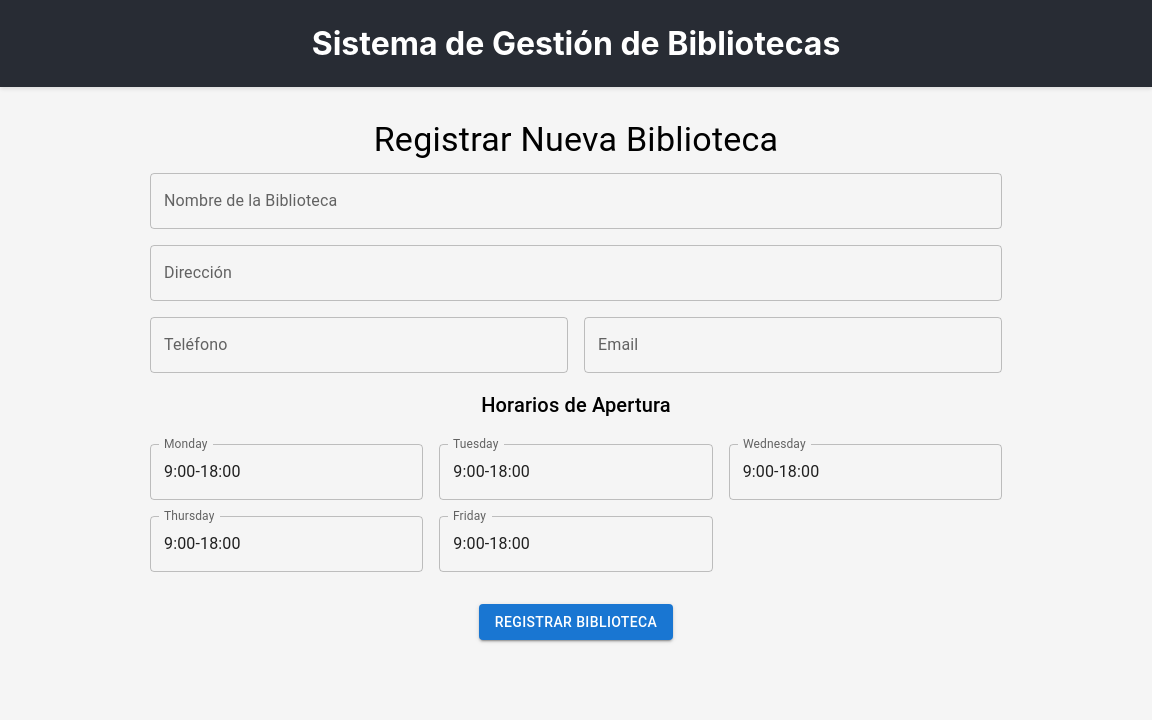
Test: Library Registration Flow › should handle duplicate library name
Llenar y enviar el formulario
In the field named "name": (576, 201) [150,173,1002,229], type "Biblioteca Duplicada"
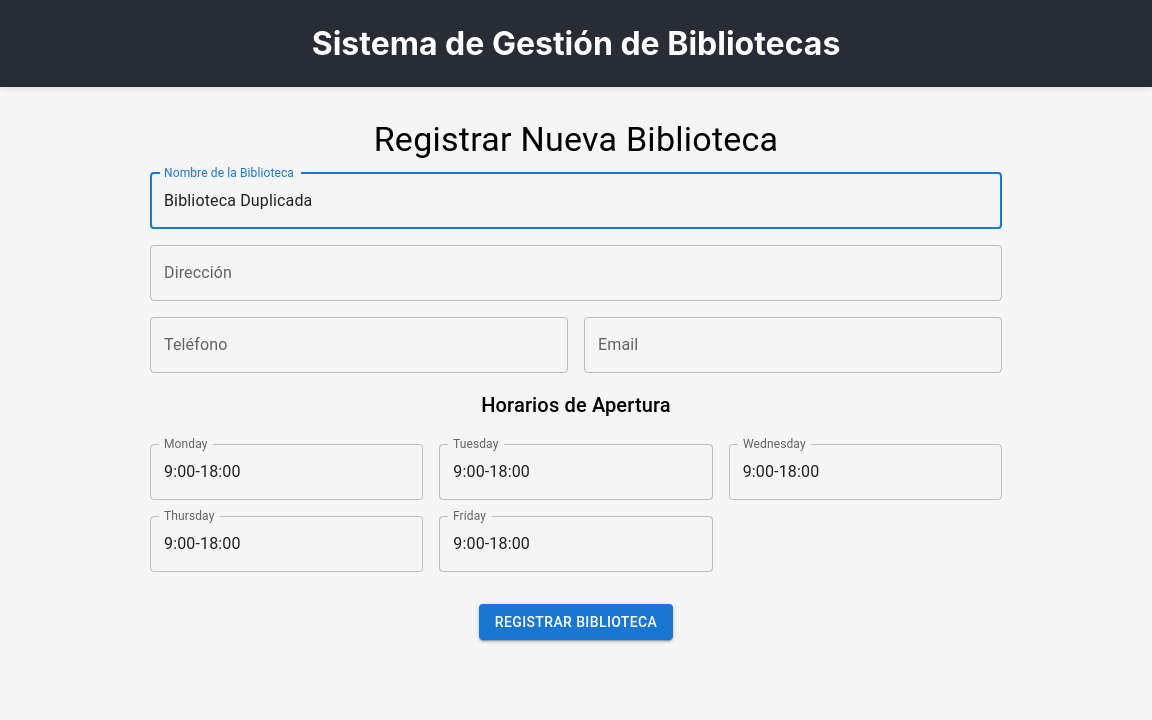
In the field named "address": (576, 273) [150,245,1002,301], type "Dirección Test"
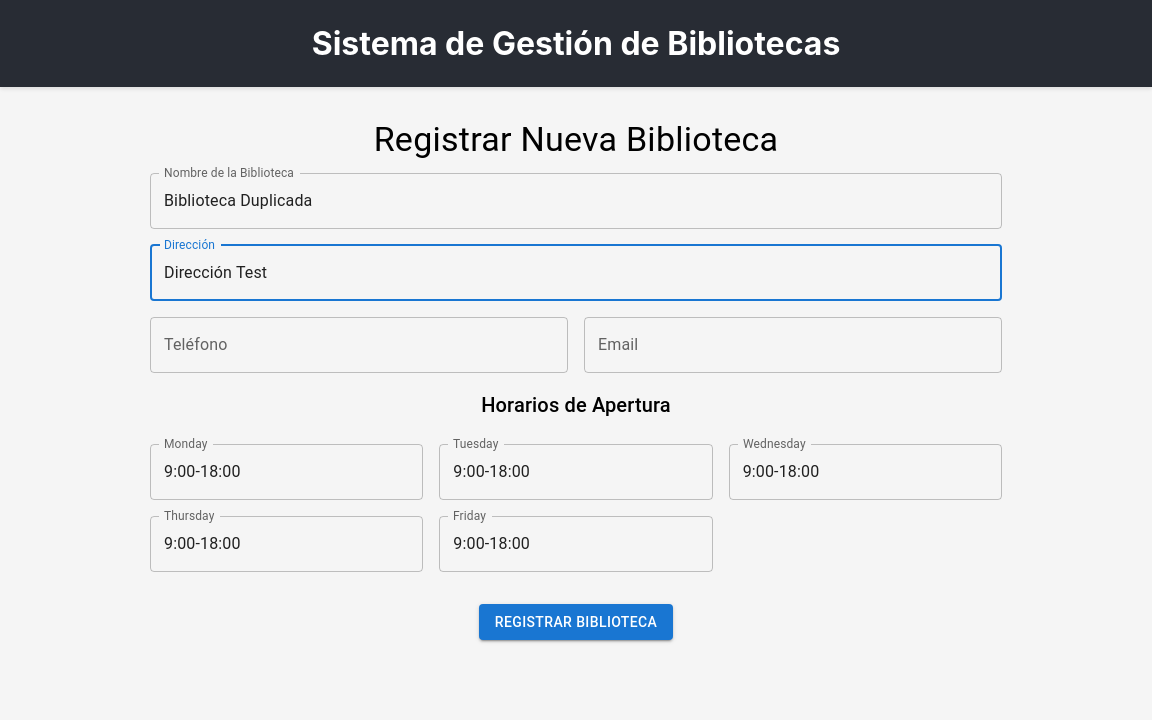
In the field named "phone": (359, 345) [150,317,568,373], type "+1234567890"
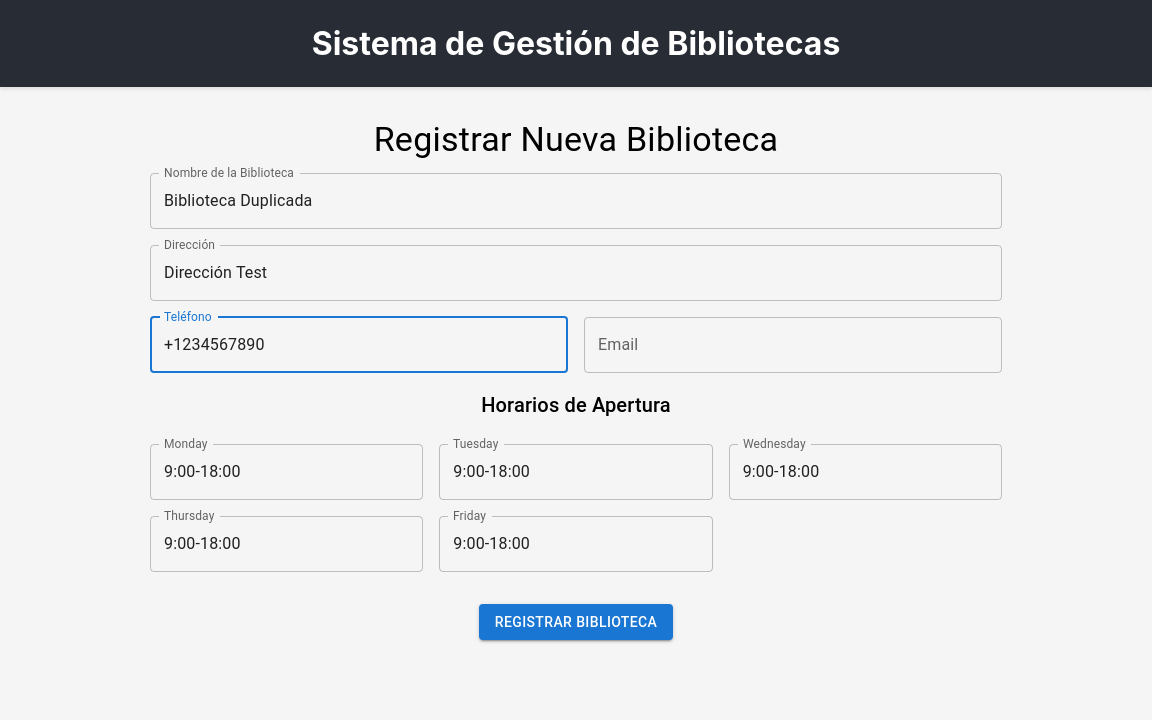
In the field named "email": (793, 345) [584,317,1002,373], type "test@biblioteca.com"
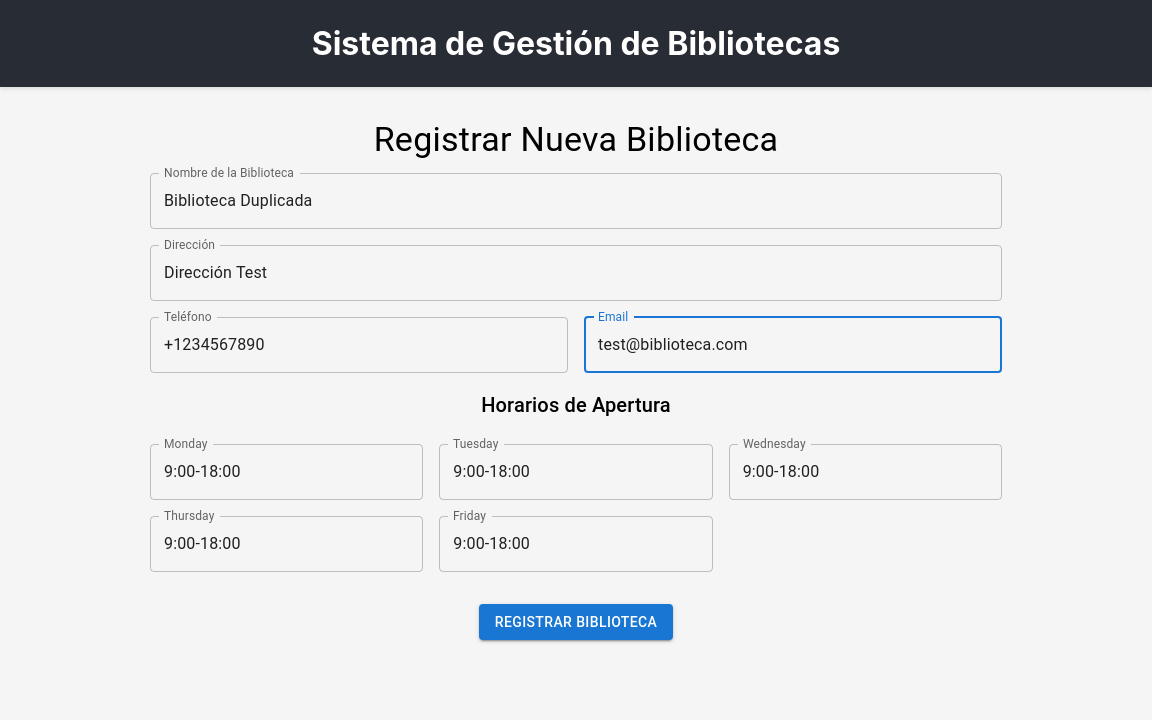
Click the submit button: click(577, 623) [479,604,674,641]
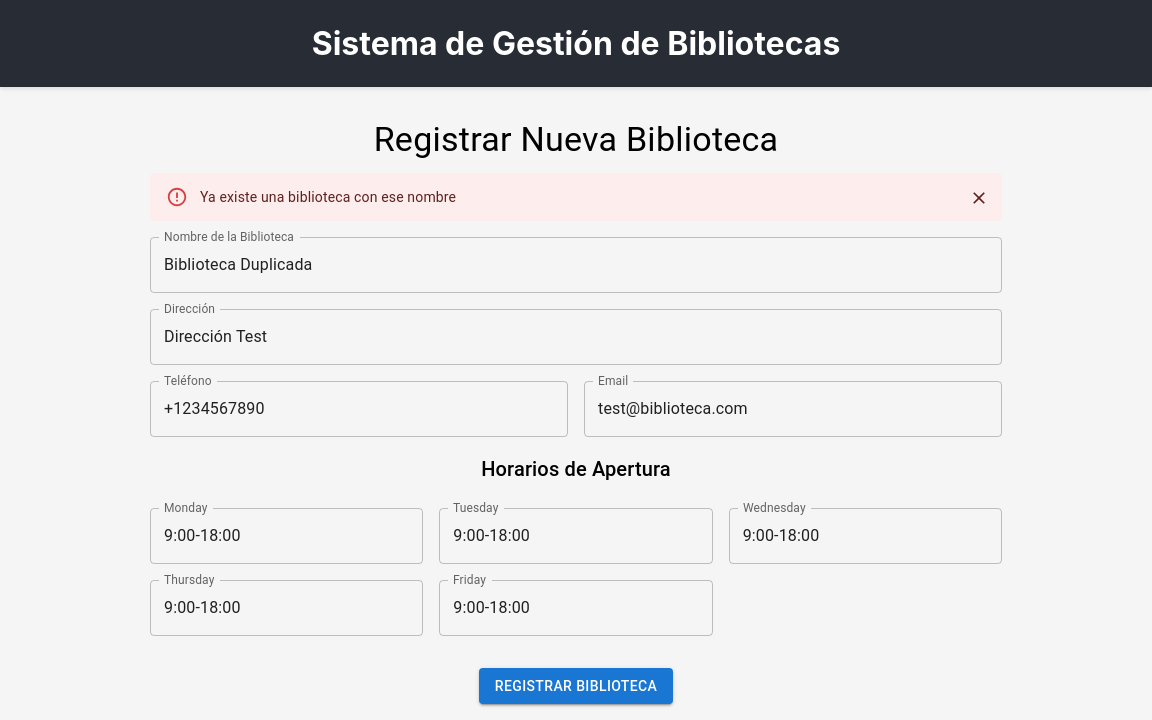
Check: the text "Ya existe una biblioteca con ese nombre" is shown, box [200,189,456,205]
